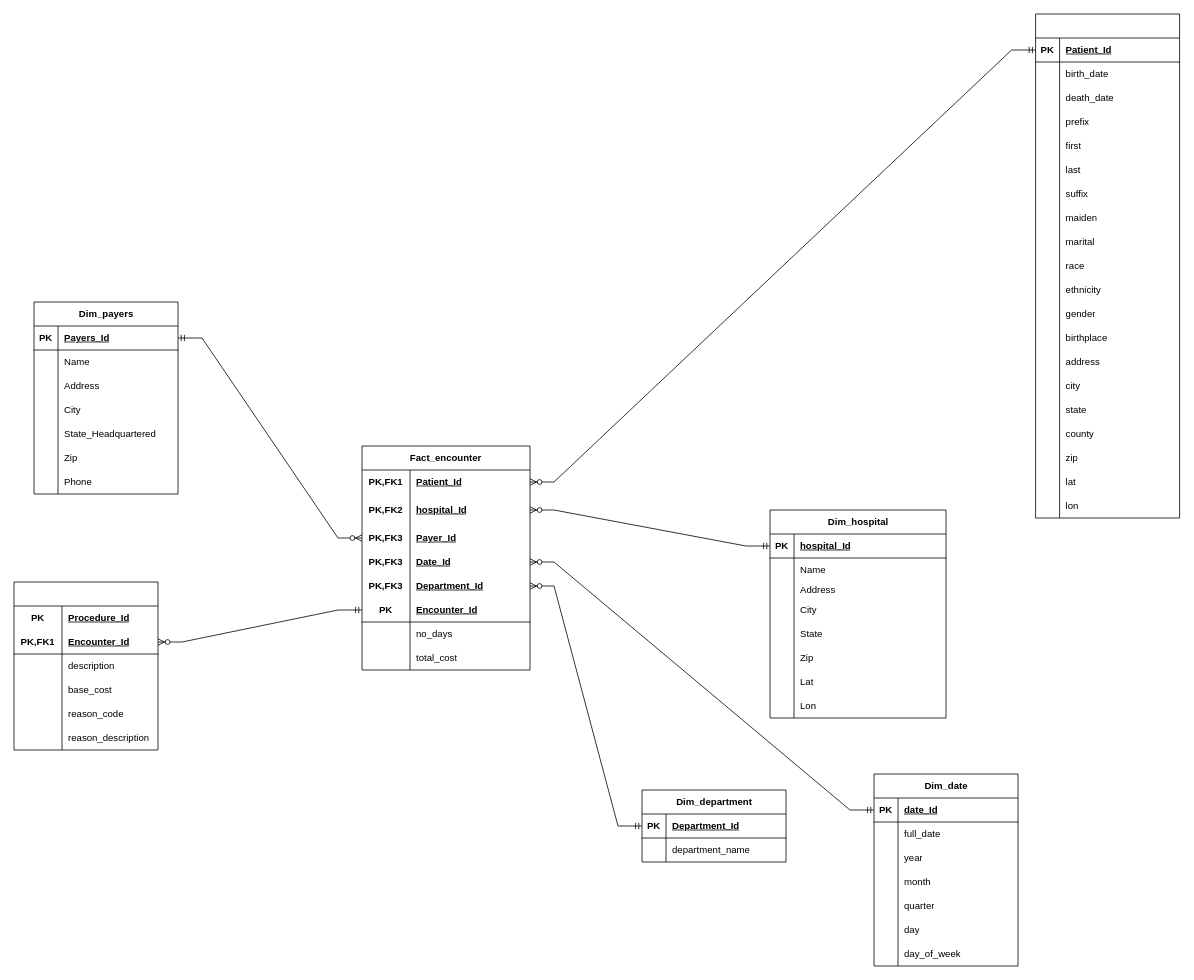
Image size: 1194x980. Some labels were removed from this diagram. The shapes that lost their labels are listed below. From the top down, each one's box as (x1, y1, x2, y2) in pixels, then its label:
(1035, 13, 1180, 518): Dim_Patient
(13, 581, 158, 750): Dim_procedures
